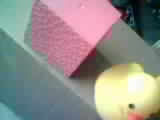duck: (86, 66, 149, 114)
